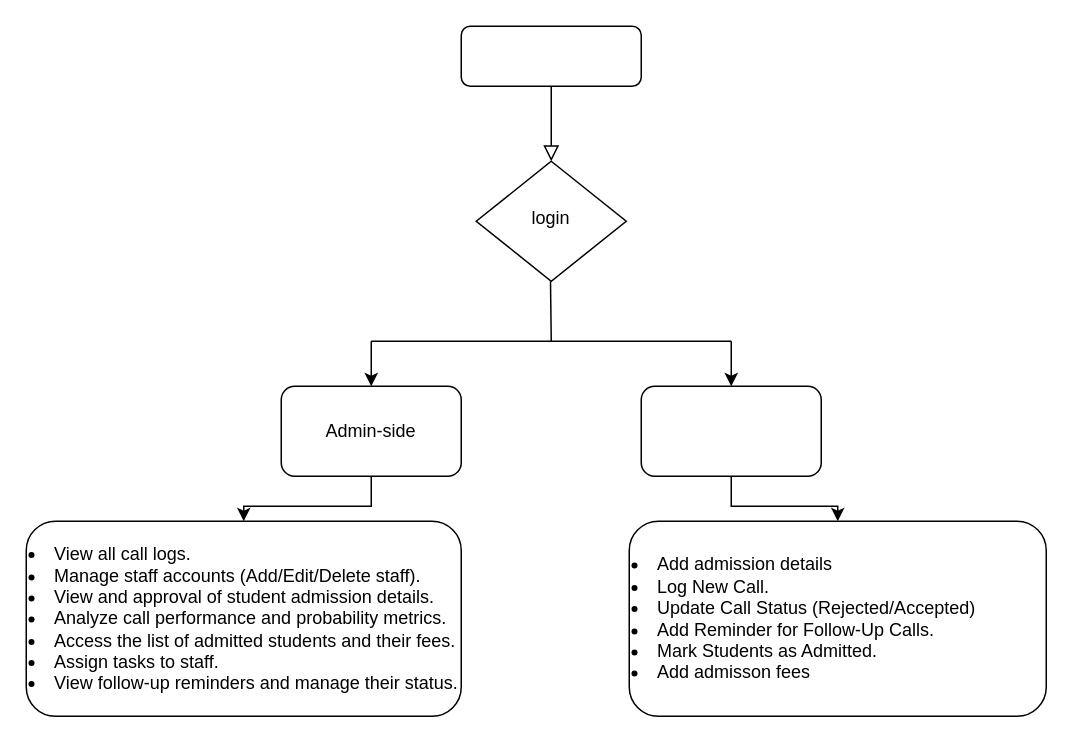
Image size: 1073x743. Some labels were removed from this diagram. Each missing label, with the box of its shape:
Call management system: (460, 25, 641, 86)
Staff-Side: (640, 385, 821, 476)
